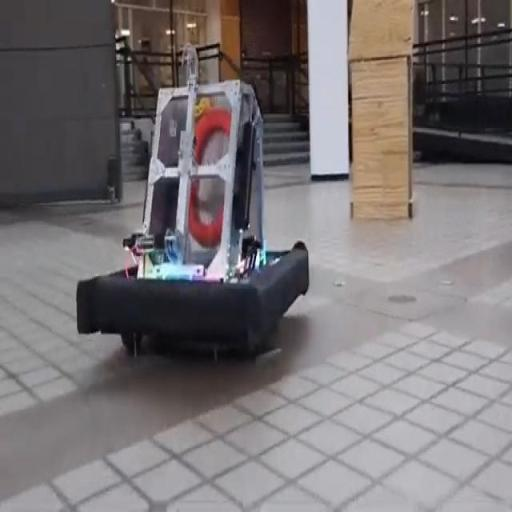robot: (77, 46, 315, 362)
